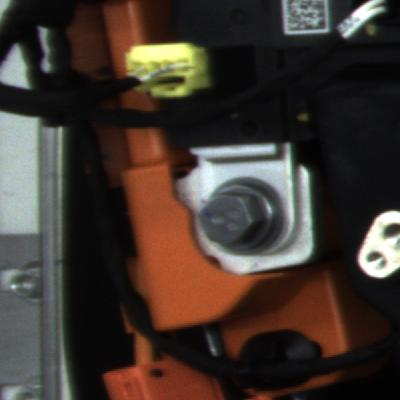nut_b: (190, 169, 287, 261)
